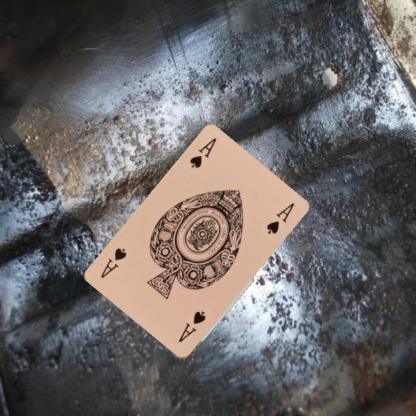As: (186, 135, 218, 170), (176, 309, 207, 344)
